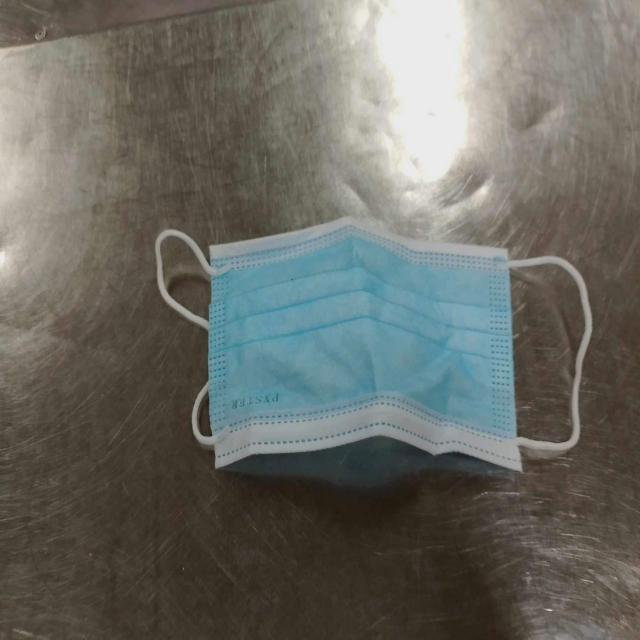Infectious: (153, 215, 592, 476)
